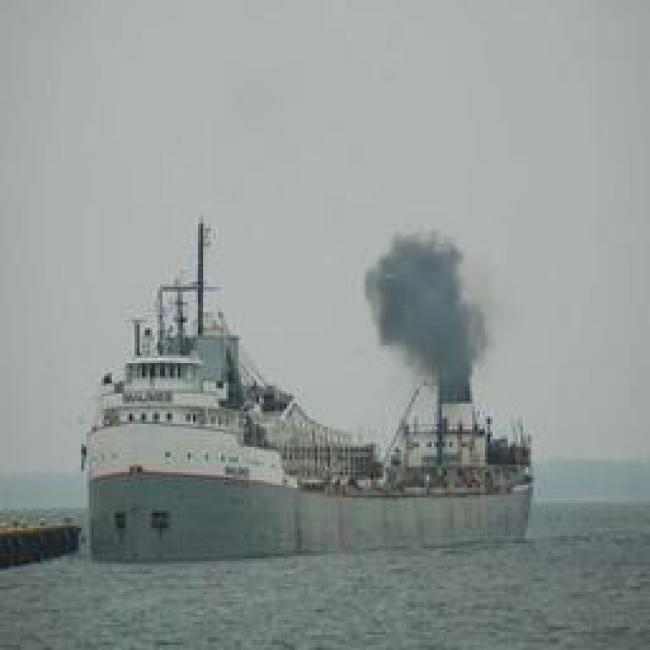Ship: (42, 336, 587, 559)
